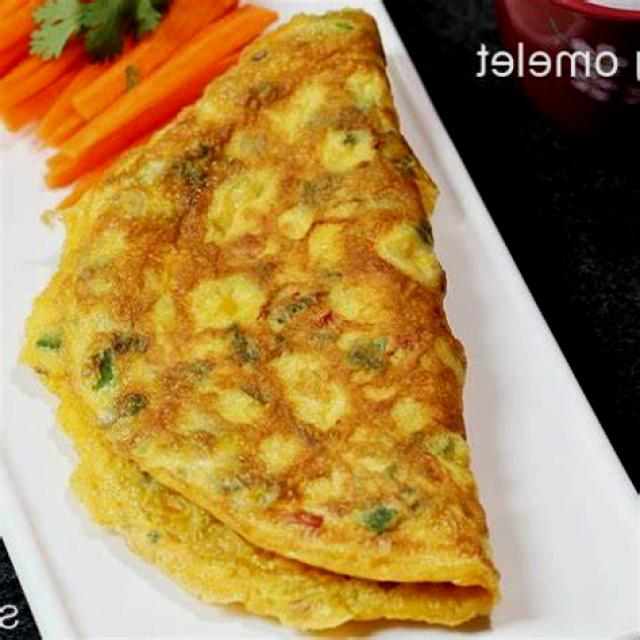telur dadar: (16, 8, 504, 640)
